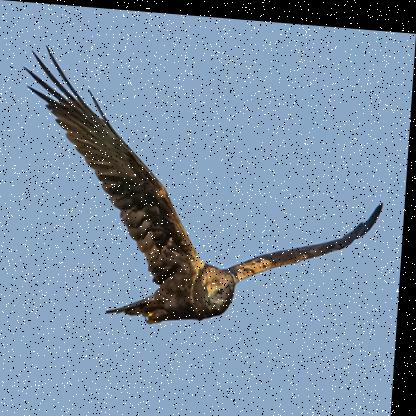Burung: (10, 42, 390, 338)
